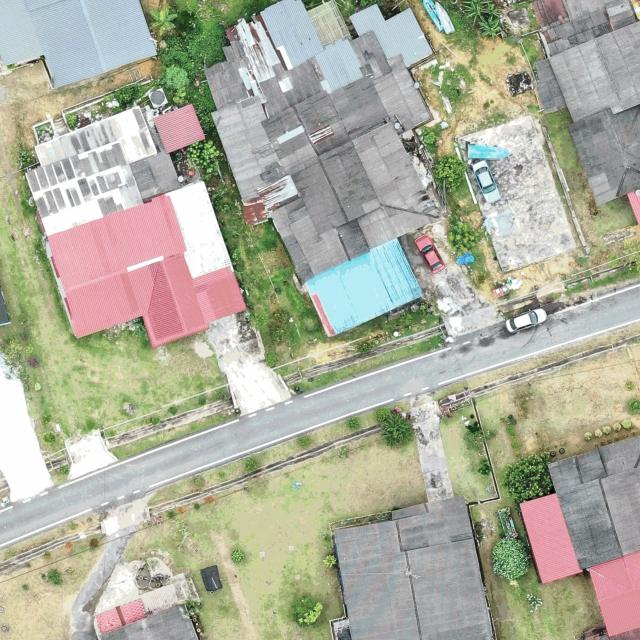Tree: (499, 453, 554, 504), (490, 535, 531, 582), (186, 139, 221, 183), (432, 152, 468, 192), (447, 218, 480, 254), (292, 595, 323, 629), (147, 3, 178, 37), (459, 0, 492, 24), (478, 17, 503, 42), (480, 5, 500, 22)
